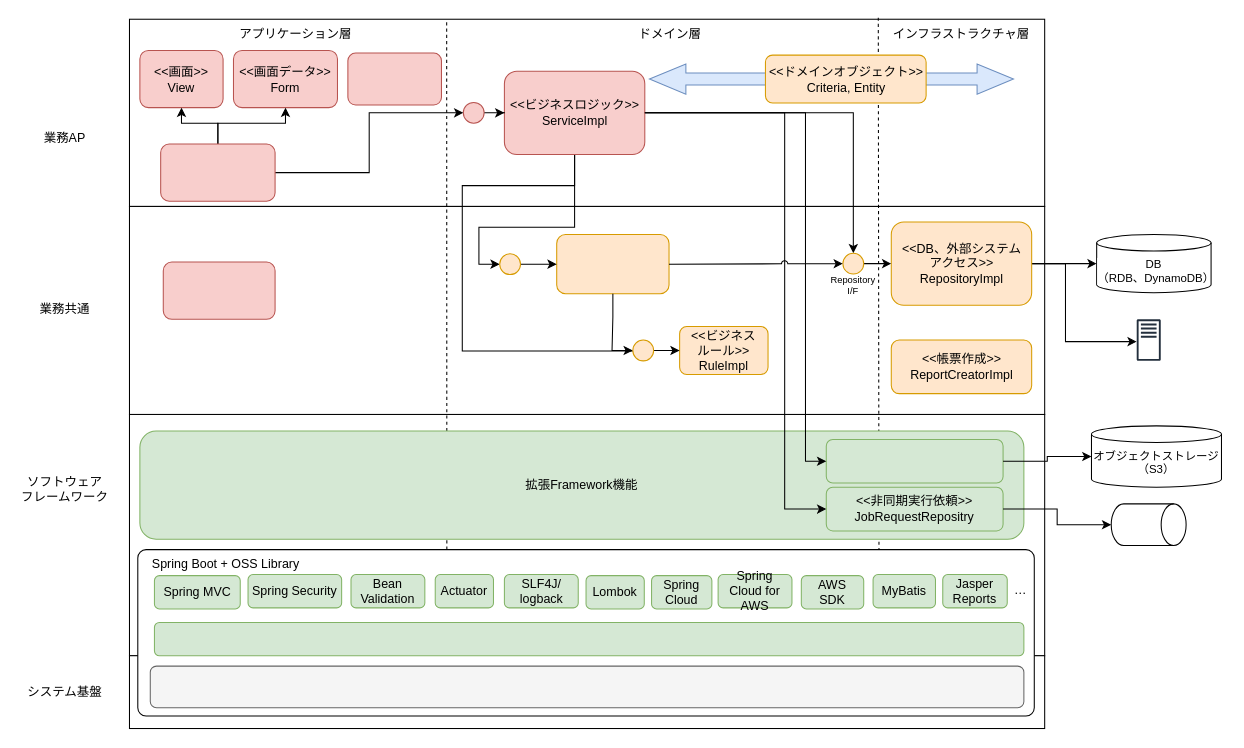
This 1244x748 diagram has some shape labels left out. Here are the shapes that lost their labels. From the top down, the centre of each, then its label:
At point 394,78: "<<入力チェック >> Validator".
At point 473,112: "Service I/F".
At point 217,172: "<<コントローラ >> Controller, RestController".
At point 510,264: "Shared Service I/F".
At point 612,263: "<<共通処理 >> SharedServiceImpl".
At point 218,290: "<<画面 >> 共通画面部品".
At point 643,350: "Rule I/F".
At point 1148,339: "外部システム等".
At point 914,460: "<<オブジェクト ストレージアクセス>> ObjectStorageAccessor".
At point 1148,524: "キュー（SQS）".
At point 588,638: "Spring Core（DI/AOP等）".
At point 586,686: "Tomcat".
